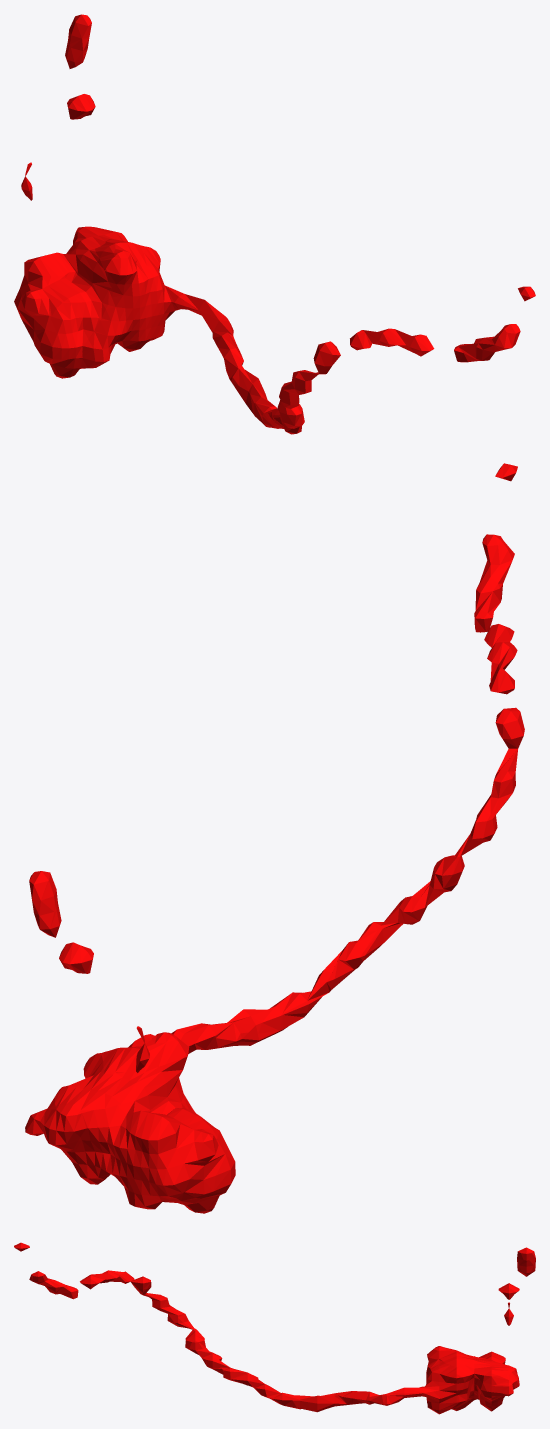
File: ftsH_coarse.dae
3 renders of one model, top to bottom at view 1: azimuth 30°, elevation 25°; view 2: azimuth 150°, elevation 25°; view 3: azimuth 270°, elevation 25°, orthographic. The views are drawn at different scales.
Parts seen in each view (by area): view 1: ftsH; view 2: ftsH; view 3: ftsH.
Part boxes in pixels (bbox=[...]): ftsH: bbox=[14, 14, 535, 434]; ftsH: bbox=[25, 463, 524, 1213]; ftsH: bbox=[14, 1242, 535, 1414].
Size of the model in its own units: 73.3 by 165 by 391.
